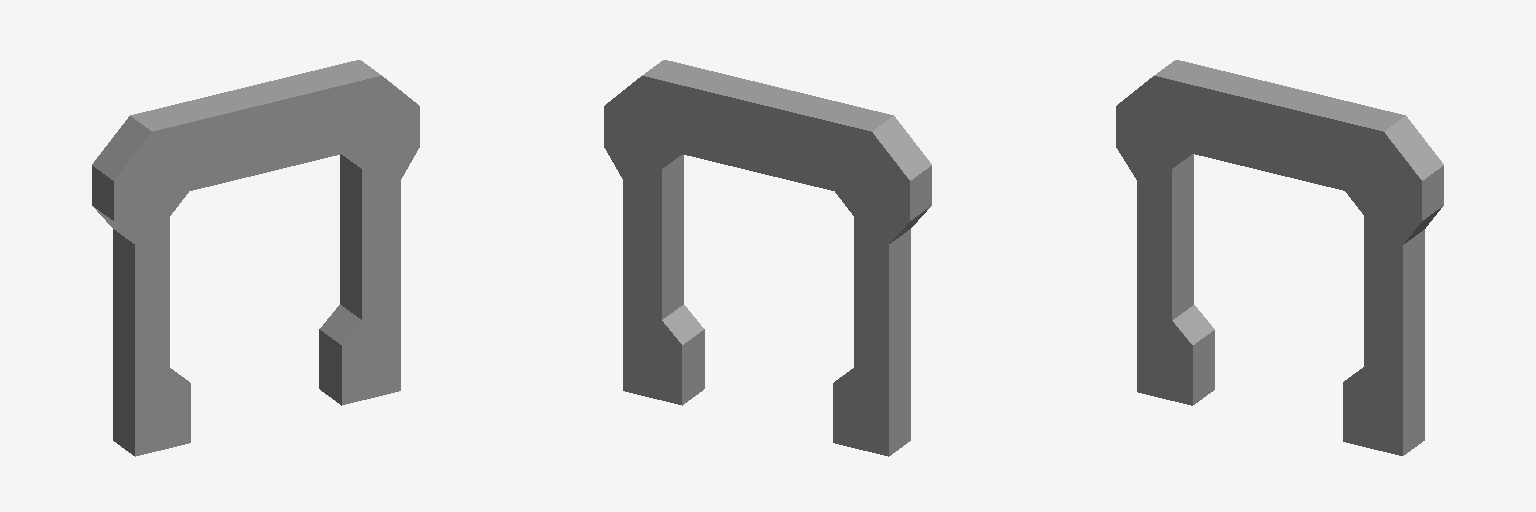
The model's file is door.obj.
The picture shows the model from 3 angles: view 1: azimuth 30°, elevation 25°; view 2: azimuth 150°, elevation 25°; view 3: azimuth 330°, elevation 25°; orthographic projection.
Visible parts, largest first — view 1: Mesh1 Door1 Model; view 2: Mesh1 Door1 Model; view 3: Mesh1 Door1 Model.
Part boxes in pixels (bbox=[...]): Mesh1 Door1 Model: bbox=[92, 60, 419, 456]; Mesh1 Door1 Model: bbox=[604, 60, 931, 456]; Mesh1 Door1 Model: bbox=[1116, 60, 1443, 455].
Bounding box in the file's own units: 2 × 2 × 0.25.